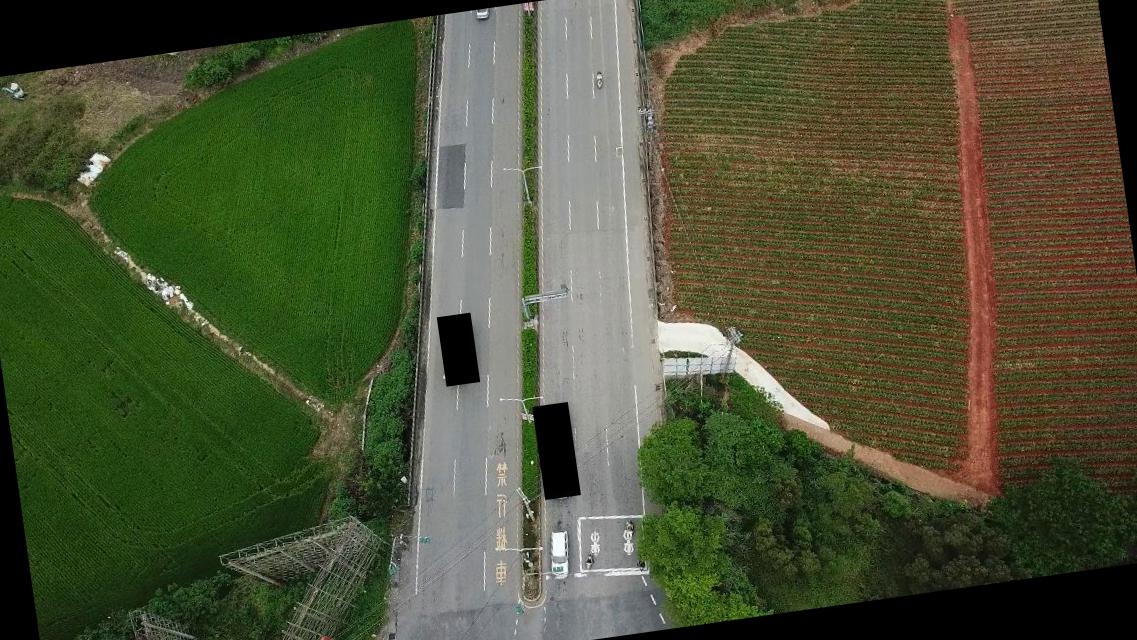vehicle: (543, 528, 572, 582), (473, 9, 489, 20)
